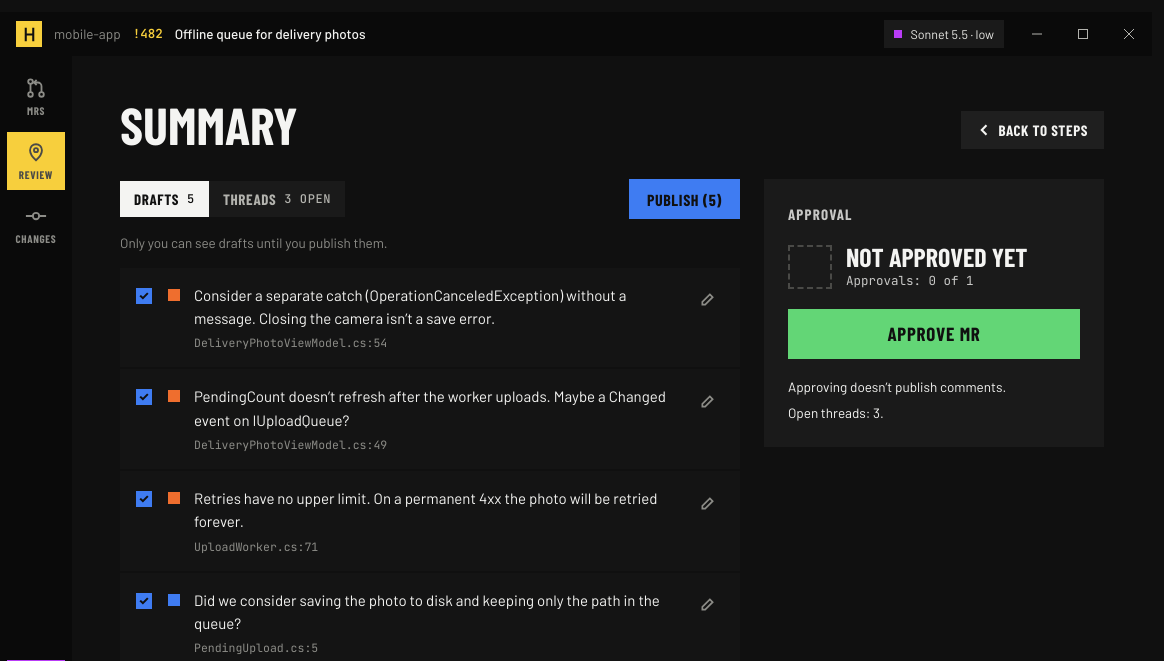
S-05 editing a draft in place (F-12.3, M5 decision 6) › F-12.3 the pencil turns the text into a text area holding the draft, with Save and Cancel, and puts the focus in it
What coordinates should you click on to do the following:
click the button named "Edit comment 2"
I would click on:
 (708, 401)
Its box is [692, 385, 724, 417].
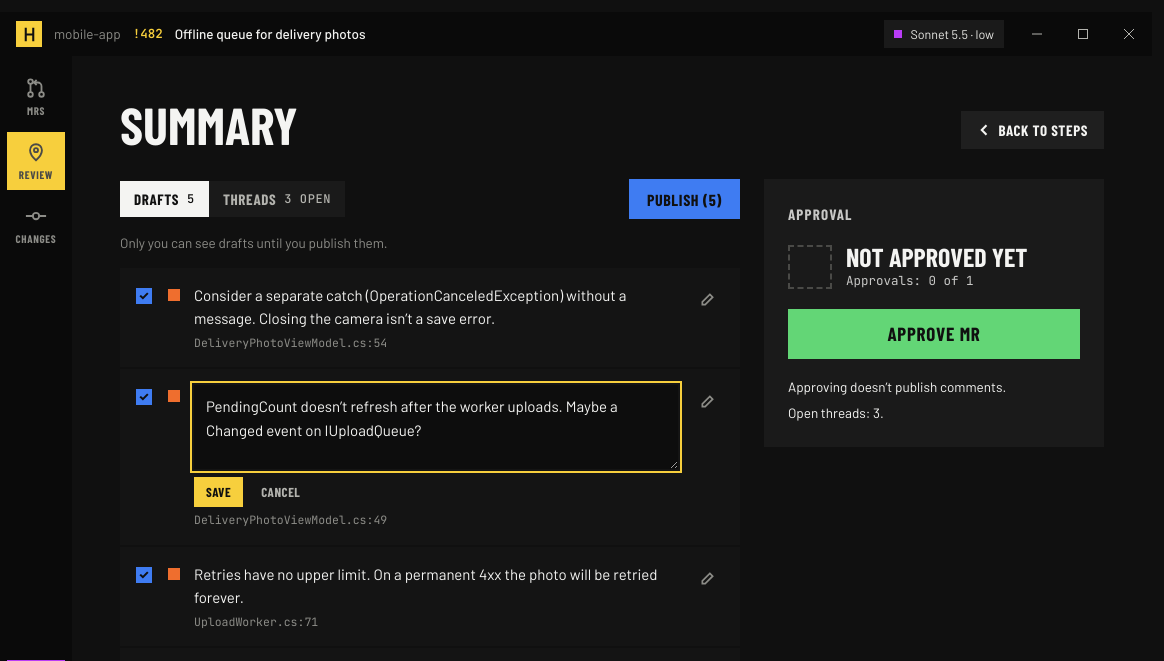
Expected: the text box holds "PendingCount doesn’t refresh after the worker uploads. Maybe a Changed event on IUploadQueue?", [194, 385, 678, 469]
Expected: the button "Save" is enabled, [194, 477, 243, 507]
Expected: the button "Cancel" is enabled, [249, 477, 312, 507]
